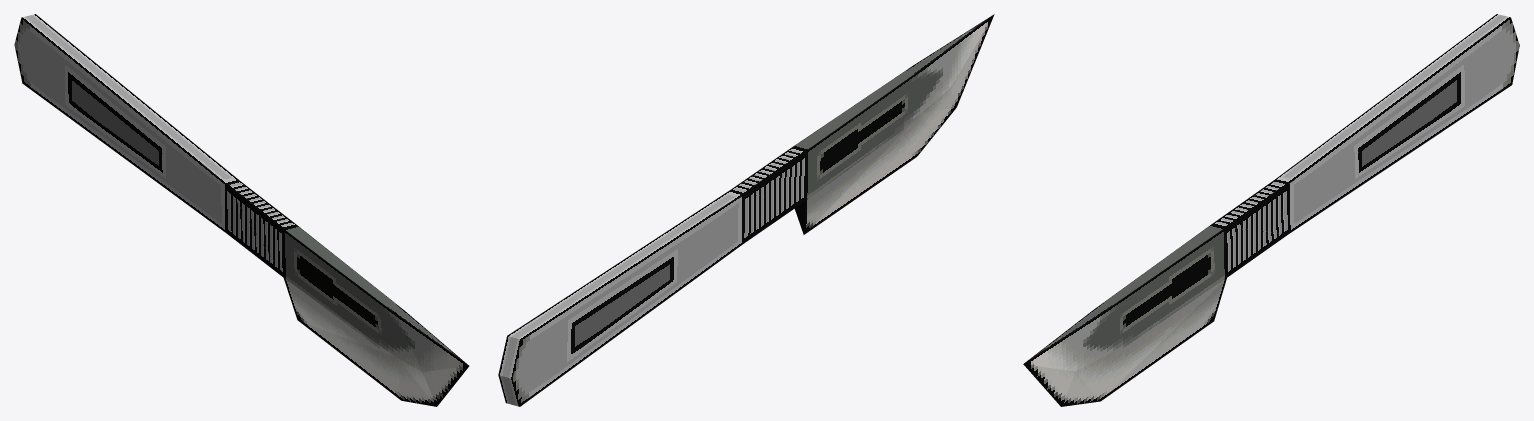
File: Scalpel.obj
The picture shows the model from 3 angles, left to right: view 1: azimuth 30°, elevation 25°; view 2: azimuth 150°, elevation 25°; view 3: azimuth 330°, elevation 25°; orthographic projection.
Parts seen in each view (by area): view 1: Mesh-35; view 2: Mesh-35; view 3: Mesh-35.
Part boxes in pixels (bbox=[...]): Mesh-35: bbox=[14, 14, 469, 406]; Mesh-35: bbox=[498, 14, 994, 406]; Mesh-35: bbox=[1023, 14, 1519, 406].
Bounding box in the file's own units: 0.2939 × 1.07 × 8.97.
Materials: 1 (1 with a texture image).
